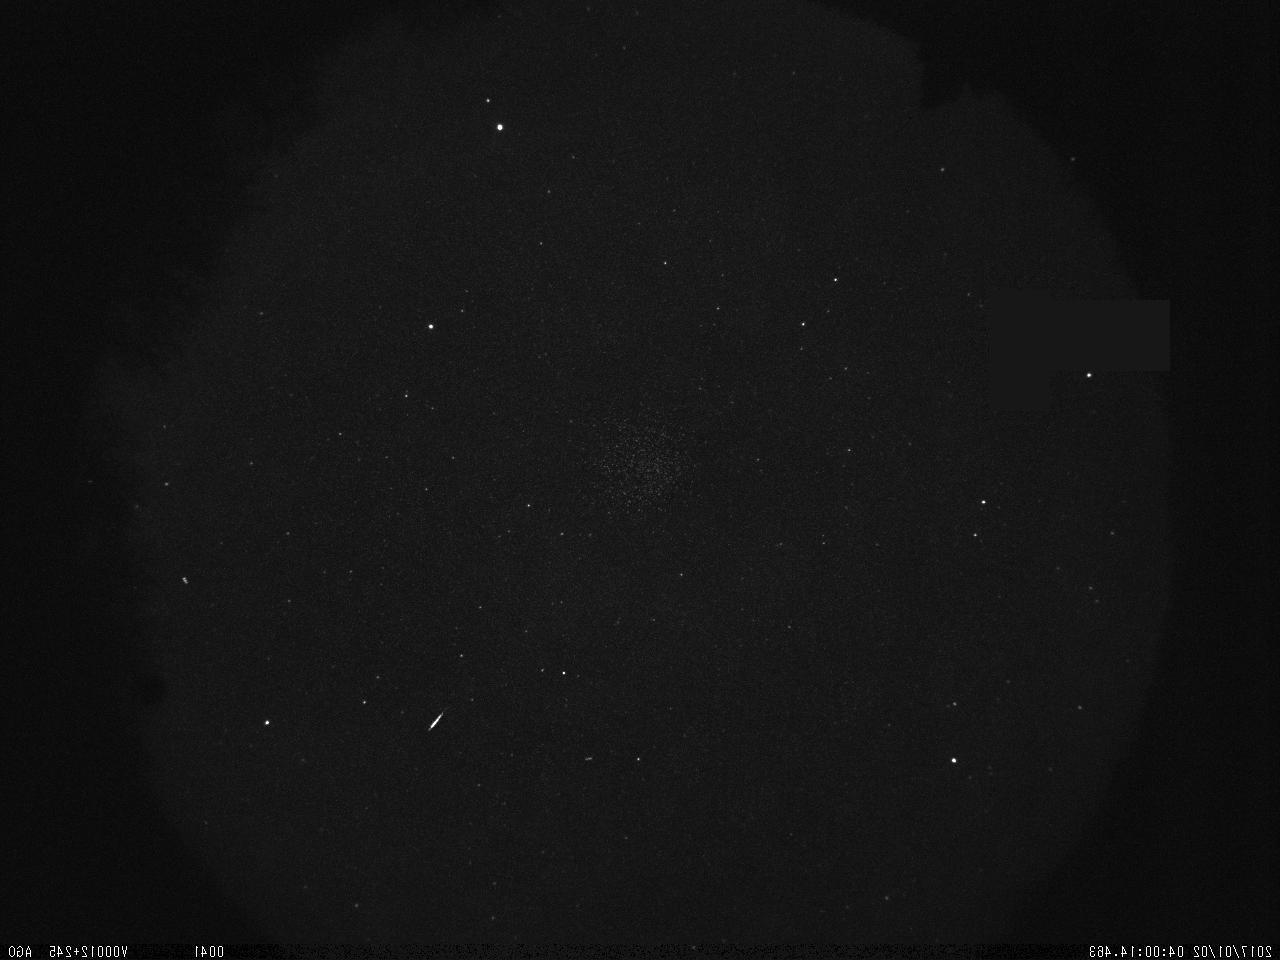meteor: (419, 697, 446, 740)
